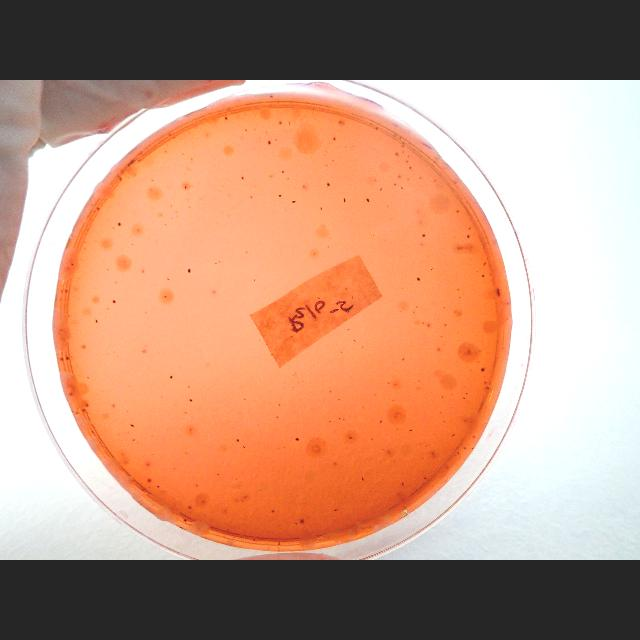colony: (336, 119, 344, 128), (484, 385, 490, 391), (394, 152, 400, 158), (366, 196, 370, 204), (343, 197, 347, 203), (268, 140, 272, 146), (187, 268, 191, 274), (146, 478, 152, 482), (300, 518, 304, 524), (333, 508, 339, 512), (450, 433, 456, 437), (480, 368, 486, 372), (416, 276, 420, 282), (422, 232, 426, 238), (95, 318, 98, 324), (326, 182, 330, 186), (292, 200, 296, 204), (278, 194, 282, 198), (270, 94, 274, 98), (279, 121, 283, 125), (224, 117, 228, 121), (117, 222, 121, 226), (96, 207, 100, 211), (112, 300, 116, 304), (65, 356, 69, 360), (60, 357, 64, 361), (69, 392, 73, 396), (82, 408, 86, 412), (86, 403, 90, 407), (130, 424, 134, 428), (156, 484, 160, 488), (183, 518, 187, 522), (481, 274, 485, 278), (466, 234, 470, 238), (408, 166, 412, 170), (169, 375, 173, 379), (295, 437, 299, 441), (408, 428, 412, 432), (185, 186, 188, 190), (165, 295, 168, 299), (167, 277, 170, 281), (202, 498, 204, 504), (227, 528, 230, 532), (362, 476, 364, 482), (462, 396, 466, 399), (431, 268, 434, 272), (484, 260, 486, 266), (468, 227, 472, 230), (456, 210, 459, 214), (288, 120, 290, 126), (237, 438, 240, 442), (394, 182, 396, 188), (401, 186, 404, 190), (240, 177, 243, 180), (115, 280, 117, 284), (278, 541, 280, 545), (294, 522, 298, 524), (402, 482, 404, 486), (424, 476, 426, 480), (472, 436, 476, 438), (457, 451, 459, 455), (444, 324, 448, 326), (428, 324, 430, 328), (490, 272, 492, 276), (399, 136, 401, 140), (370, 122, 372, 126), (334, 137, 336, 141), (190, 399, 192, 403), (243, 446, 245, 450), (349, 436, 351, 440), (320, 206, 322, 210), (380, 187, 382, 191), (282, 170, 284, 173), (94, 210, 96, 213), (464, 446, 466, 449), (444, 421, 446, 424), (457, 247, 459, 250), (406, 160, 408, 163), (254, 185, 256, 187), (250, 196, 252, 198), (76, 412, 78, 414), (92, 430, 94, 432), (196, 484, 198, 486), (278, 550, 280, 552), (272, 510, 274, 512), (466, 392, 468, 394), (402, 142, 404, 144), (402, 151, 404, 153), (375, 128, 377, 130), (339, 418, 341, 420), (380, 420, 382, 422), (472, 446, 473, 449), (344, 418, 344, 420)
